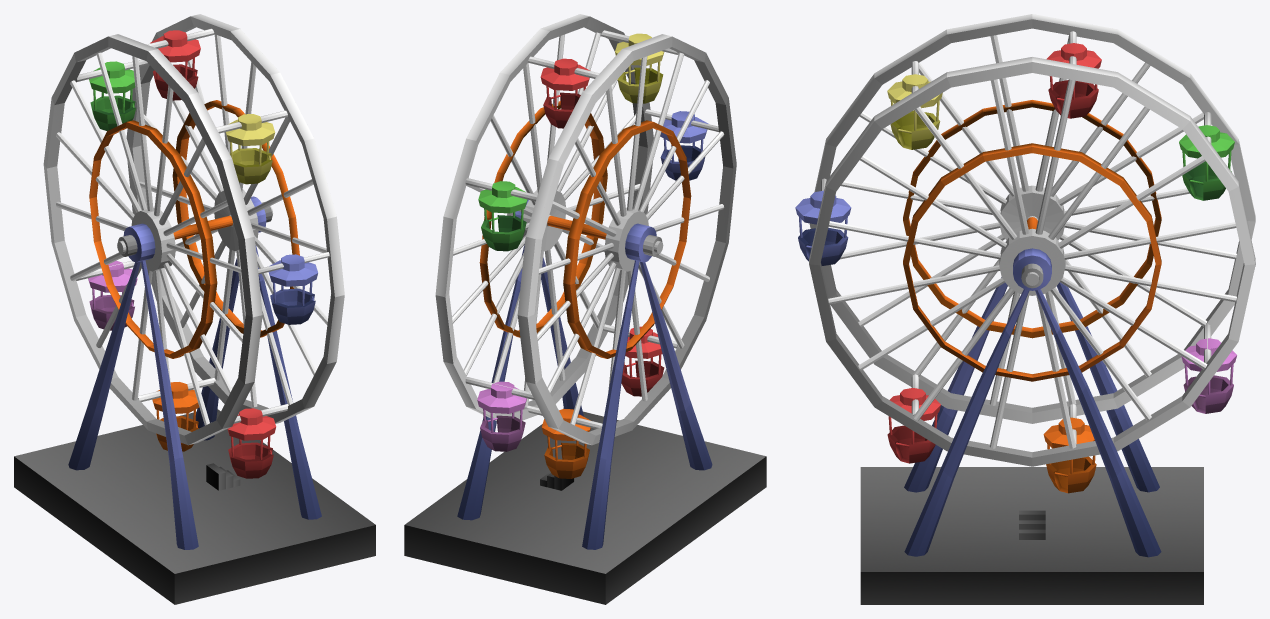
The model's file is RuedaDeFeria.fbx.
3 views of the same model, side by side, from view 1: azimuth 30°, elevation 25°; view 2: azimuth 150°, elevation 25°; view 3: azimuth 270°, elevation 25° (orthographic). The views are drawn at different scales.
Parts seen in each view (by area): view 1: Cylinder.001; view 2: Cylinder.001; view 3: Cylinder.001.
Part boxes in pixels (box(x1,y1,x2,y2)): Cylinder.001: box(14, 14, 375, 604); Cylinder.001: box(404, 14, 766, 604); Cylinder.001: box(795, 14, 1255, 604).
Size of the model in its own units: 2216 by 5069 by 4114.
13 materials, 13 textured.
